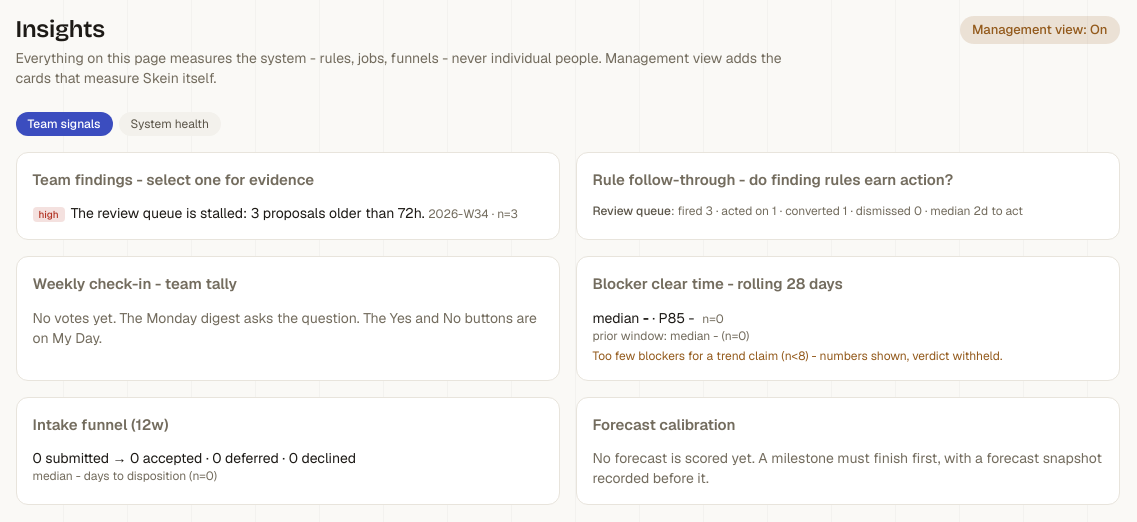
a finding's evidence panel › keeps rule follow-through in the selected audience
The width and height of the screenshot is (1137, 522).
Expected: the list item "Review queue" shows "fired 3", [592,203,1023,219]
Expected: the text "Scheduled job" is not shown
Click the button "System health" at (170, 124), box [118,112,221,136]
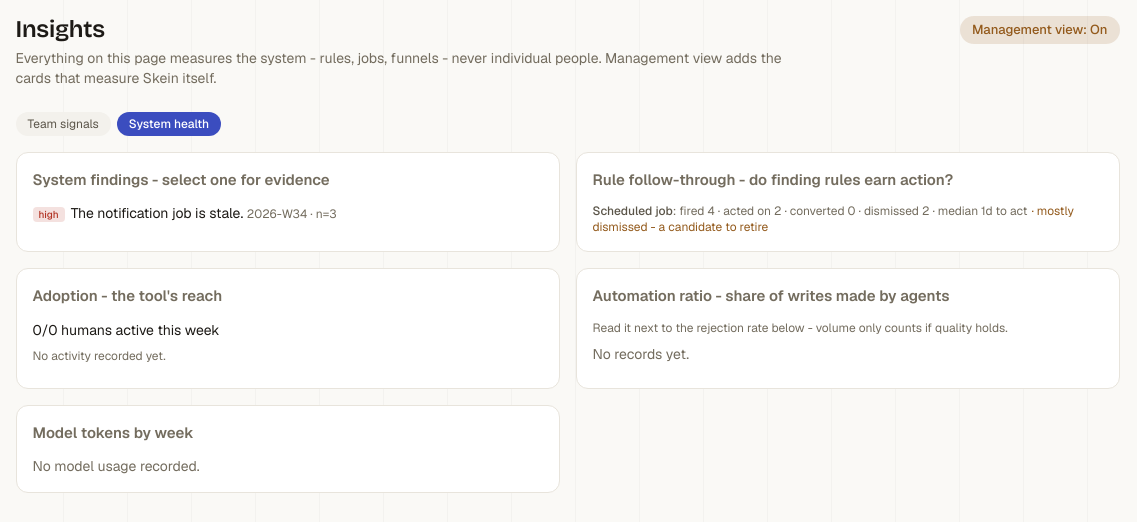
Expected: the list item "Scheduled job" shows "fired 4", [592,203,1102,235]
Expected: the button "review queue" is gone
